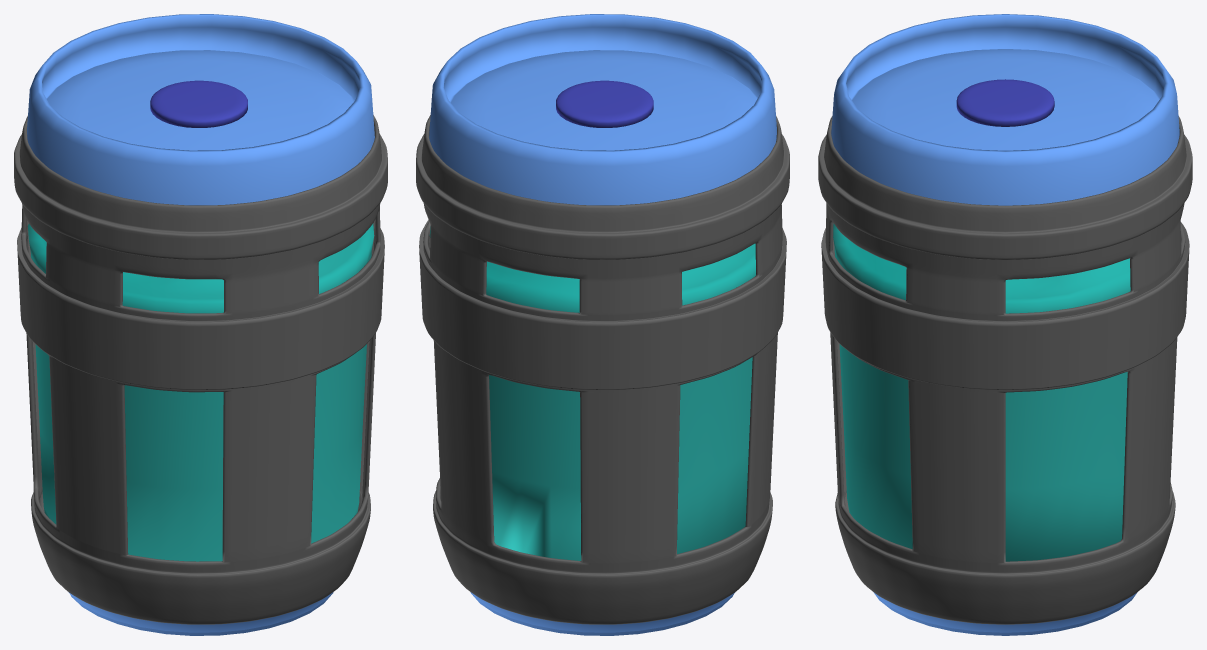
File: fortnite__chug_jug_legendary.glb
3 views of the same model, side by side, from view 1: azimuth 30°, elevation 25°; view 2: azimuth 150°, elevation 25°; view 3: azimuth 270°, elevation 25° (orthographic).
Parts seen in each view (by area): view 1: Object_6, Object_2, Object_5, Object_3, Object_4; view 2: Object_6, Object_2, Object_5, Object_3, Object_4; view 3: Object_6, Object_2, Object_5, Object_3, Object_4.
Part boxes in pixels (x1,y1,x2,y2): Object_6: [14, 115, 387, 624]; Object_2: [27, 14, 374, 635]; Object_5: [27, 223, 374, 561]; Object_3: [27, 221, 374, 560]; Object_4: [150, 80, 247, 127]; Object_6: [416, 115, 789, 624]; Object_2: [429, 14, 776, 635]; Object_5: [429, 226, 755, 560]; Object_3: [429, 221, 755, 560]; Object_4: [556, 80, 653, 127]; Object_6: [818, 116, 1192, 624]; Object_2: [831, 14, 1179, 635]; Object_5: [833, 223, 1130, 561]; Object_3: [833, 223, 1129, 560]; Object_4: [956, 79, 1054, 126].
Size of the model in its own units: 3.1 by 4.52 by 3.1.
